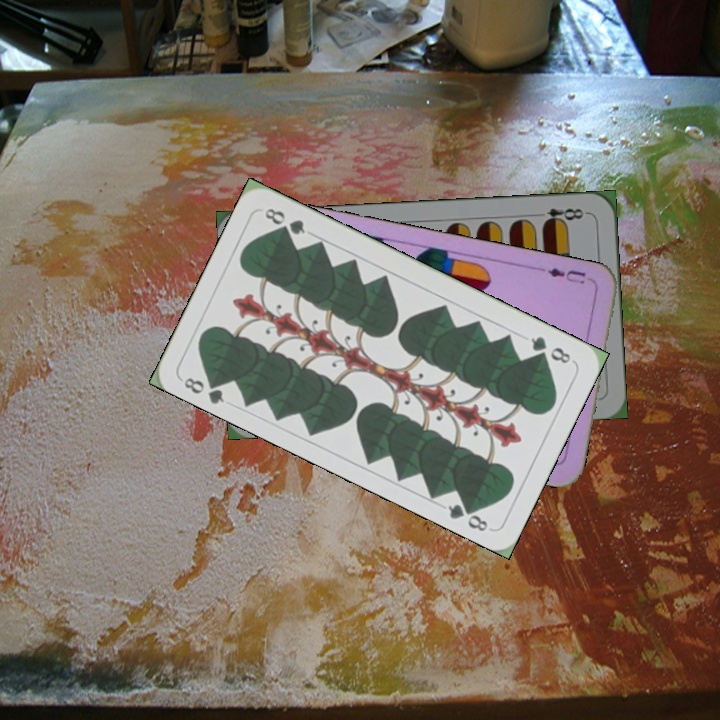E8: (531, 204, 590, 228)
EU: (536, 263, 589, 287)
G8: (180, 372, 227, 407), (526, 332, 573, 366)
